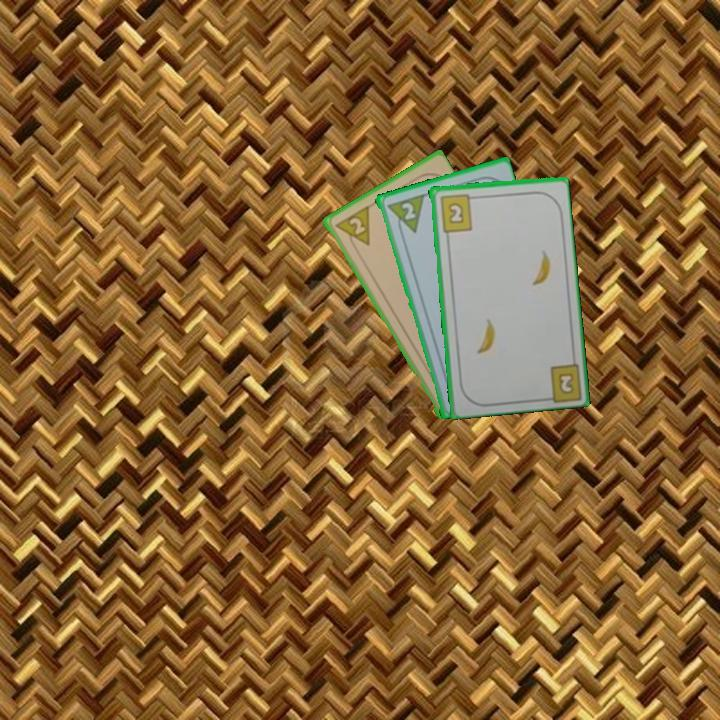2b: (436, 190, 478, 234), (555, 369, 577, 397)
2p: (330, 203, 373, 254), (397, 198, 418, 223)
